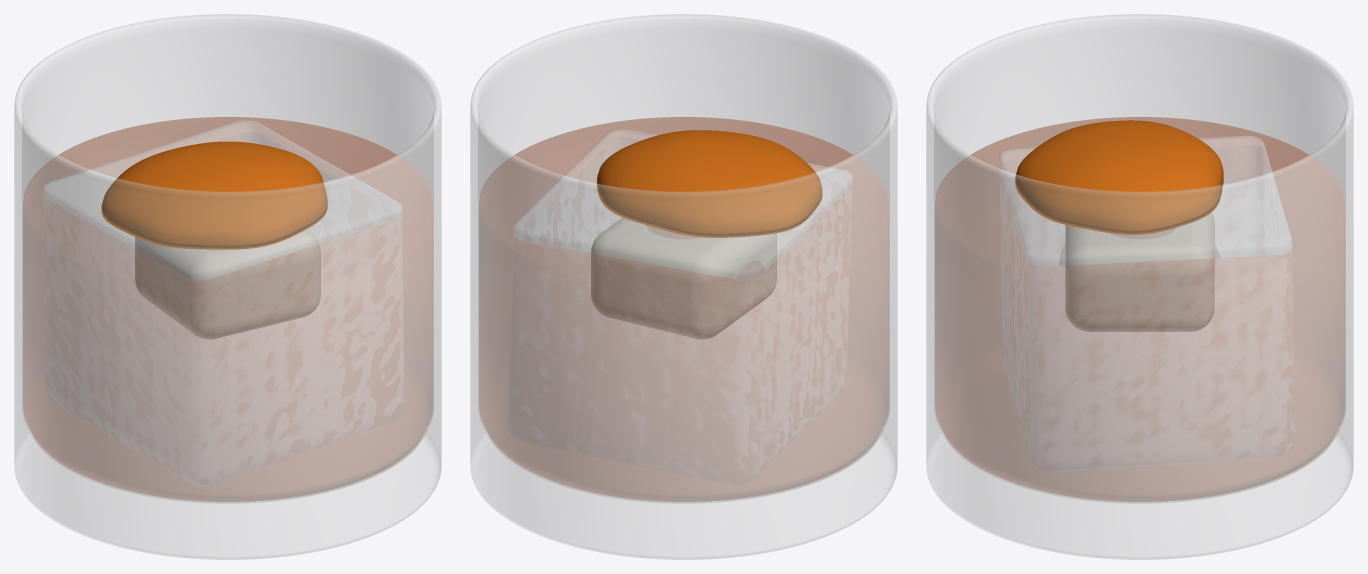
File: bbf-negroni.glb
The picture shows the model from 3 angles, left to right: view 1: azimuth 30°, elevation 25°; view 2: azimuth 150°, elevation 25°; view 3: azimuth 270°, elevation 25°; orthographic projection.
Parts seen in each view (by area): view 1: glass, liquid, garnish_orange, recipe_modifiers, ice; view 2: glass, liquid, garnish_orange, recipe_modifiers, ice, recipe_bitter; view 3: glass, liquid, garnish_orange, recipe_modifiers, ice.
Boxes of the visible parts, bbox=[...] form: glass: bbox=[14, 14, 441, 559]; liquid: bbox=[23, 117, 432, 501]; garnish_orange: bbox=[101, 141, 327, 249]; recipe_modifiers: bbox=[135, 230, 320, 339]; ice: bbox=[44, 120, 402, 248]; glass: bbox=[470, 14, 897, 559]; liquid: bbox=[479, 117, 888, 501]; garnish_orange: bbox=[597, 130, 822, 237]; recipe_modifiers: bbox=[591, 218, 776, 339]; ice: bbox=[514, 129, 852, 257]; recipe_bitter: bbox=[647, 226, 763, 279]; glass: bbox=[926, 14, 1353, 559]; liquid: bbox=[935, 117, 1344, 501]; garnish_orange: bbox=[1015, 120, 1223, 234]; recipe_modifiers: bbox=[1065, 213, 1214, 331]; ice: bbox=[999, 136, 1291, 266].
Size of the model in its own units: 2 by 1.91 by 2.
